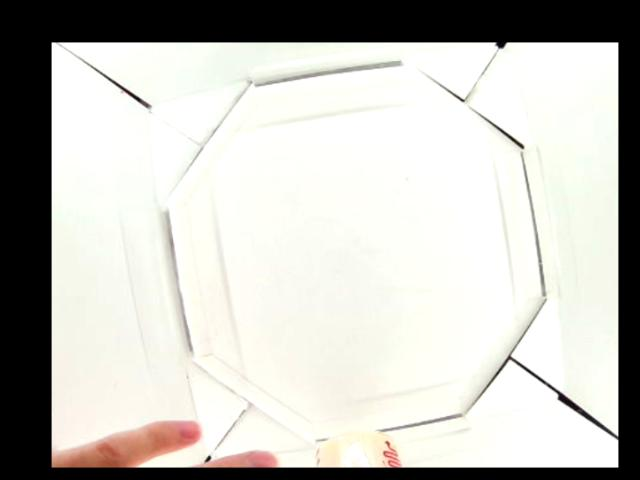Bottle: (313, 430, 400, 467)
